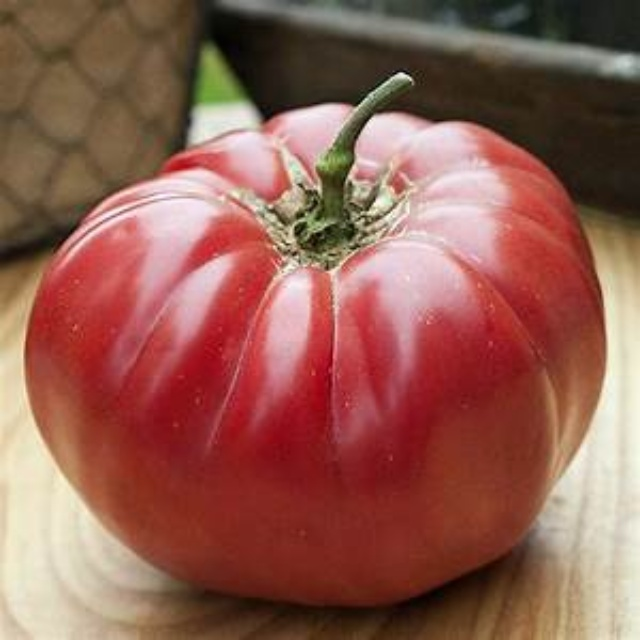tomato: (24, 79, 610, 609)
